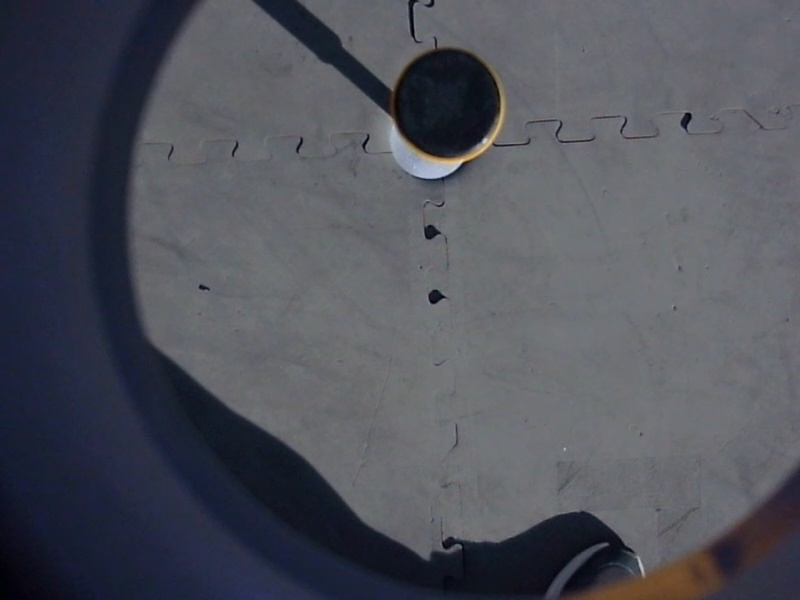tip: (381, 41, 513, 170)
